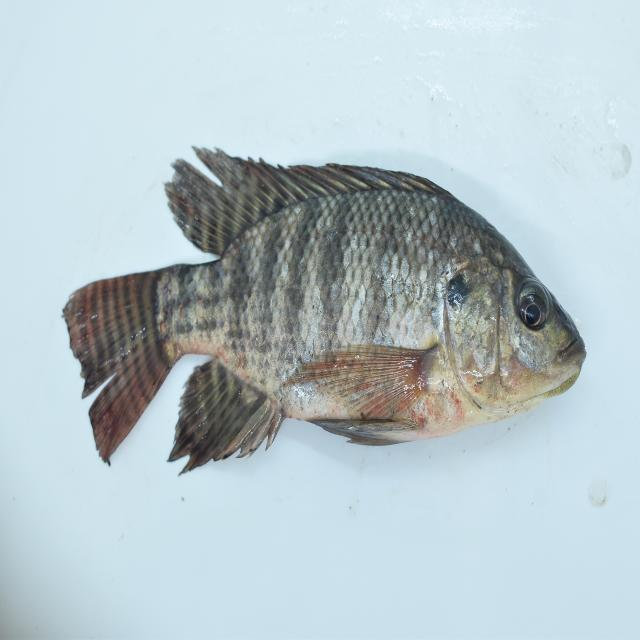Columnaris Disease: (43, 140, 610, 510)
